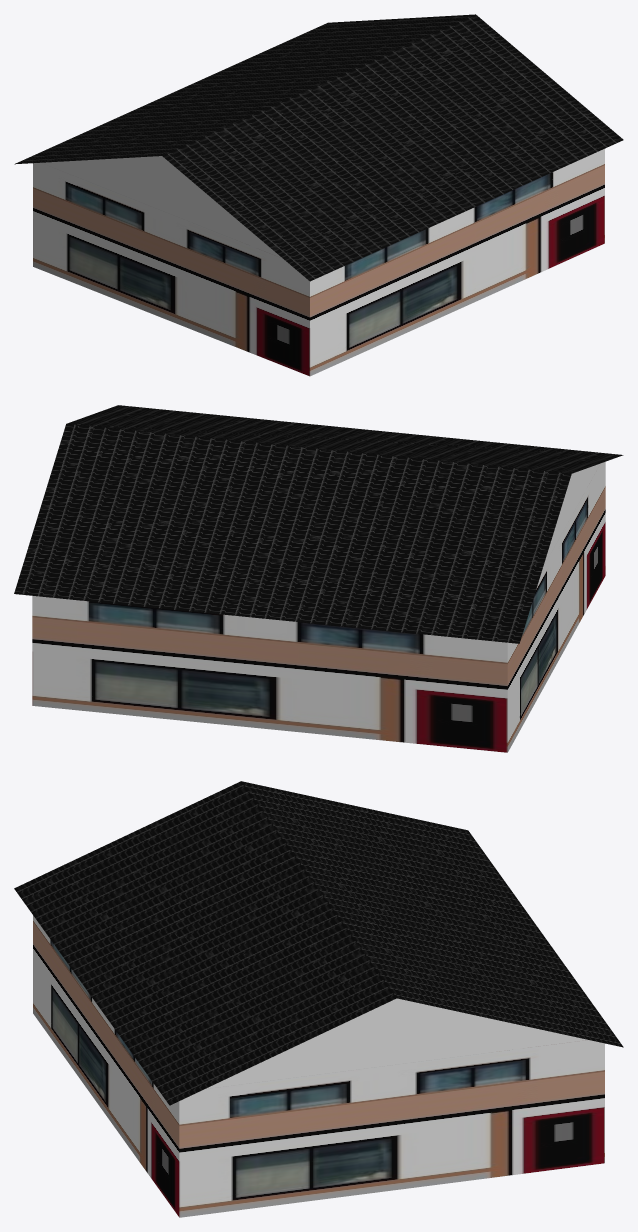
3 renders of one model, top to bottom at view 1: azimuth 30°, elevation 25°; view 2: azimuth 150°, elevation 25°; view 3: azimuth 270°, elevation 25°, orthographic. The views are drawn at different scales.
Parts seen in each view (by area): view 1: CityEngineMaterial_14_m, CityEngineMaterial_5_m, CityEngineMaterial_3_m; view 2: CityEngineMaterial_14_m, CityEngineMaterial_5_m, CityEngineMaterial_3_m; view 3: CityEngineMaterial_14_m, CityEngineMaterial_5_m, CityEngineMaterial_3_m.
Part boxes in pixels (x1,y1,x2,y2): CityEngineMaterial_14_m: (14, 14, 623, 281); CityEngineMaterial_5_m: (33, 148, 604, 376); CityEngineMaterial_3_m: (41, 156, 282, 258); CityEngineMaterial_14_m: (14, 405, 623, 643); CityEngineMaterial_5_m: (32, 461, 605, 752); CityEngineMaterial_3_m: (543, 463, 600, 567); CityEngineMaterial_14_m: (14, 781, 623, 1105); CityEngineMaterial_5_m: (33, 915, 604, 1217); CityEngineMaterial_3_m: (205, 998, 587, 1088).
Bounding box in the file's own units: 40.5 × 13.63 × 37.91.
